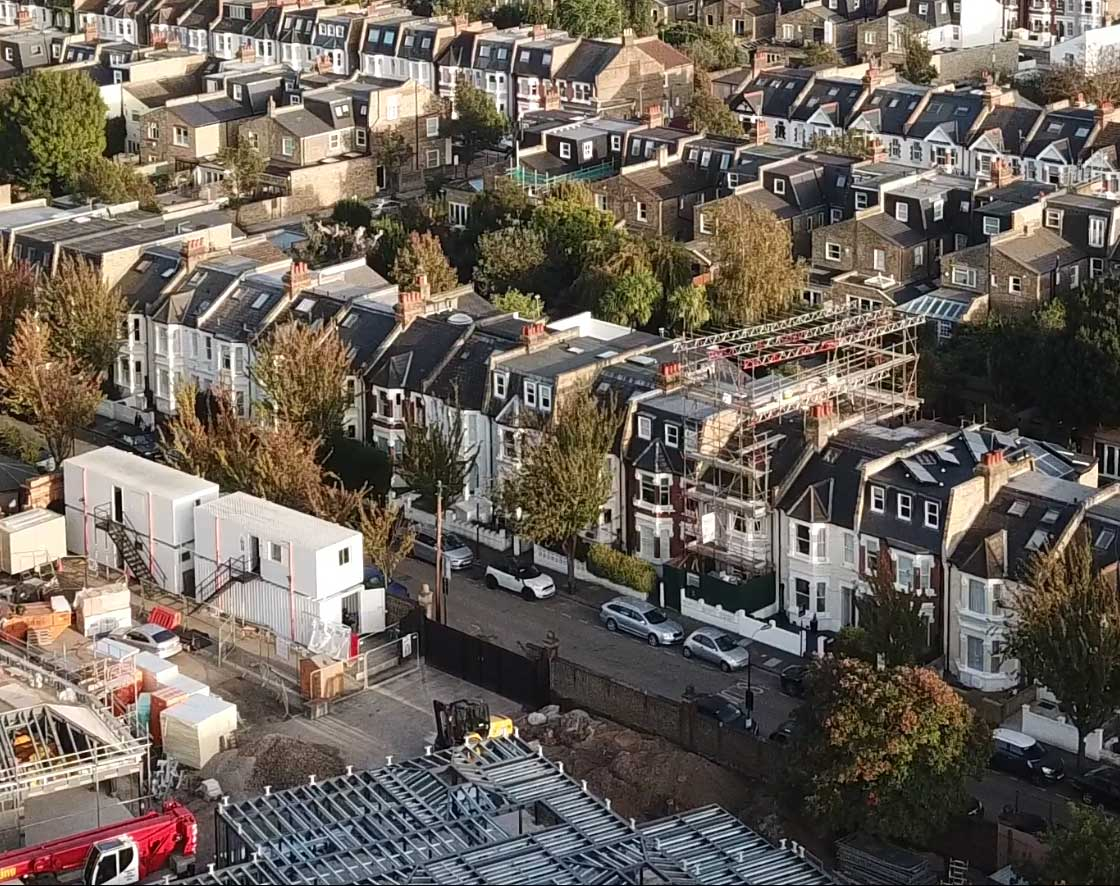car: (593, 586, 687, 647), (482, 543, 561, 608), (679, 626, 755, 672)
